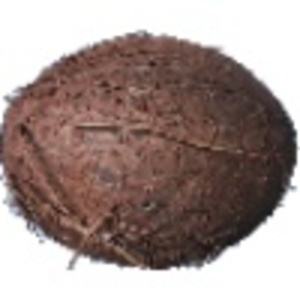coco: (1, 32, 298, 271)
